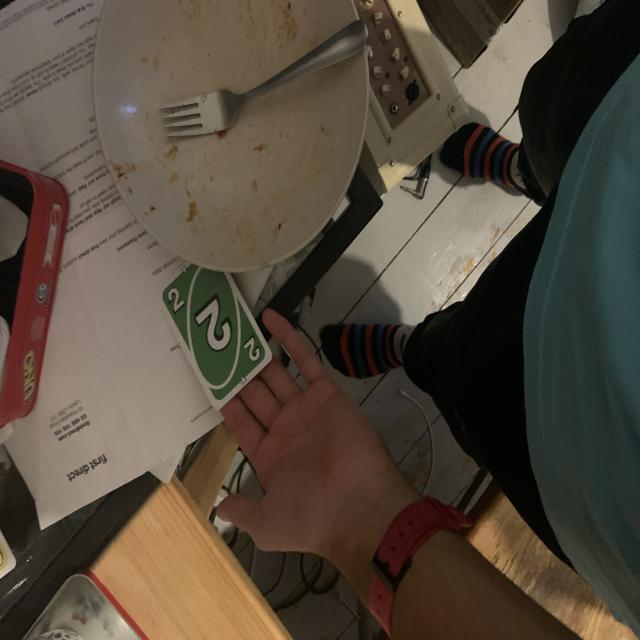lgreen-2: (165, 283, 186, 317)
